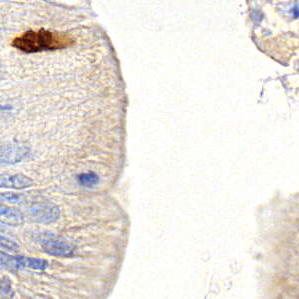Lymphocyte: (12, 26, 79, 53)
